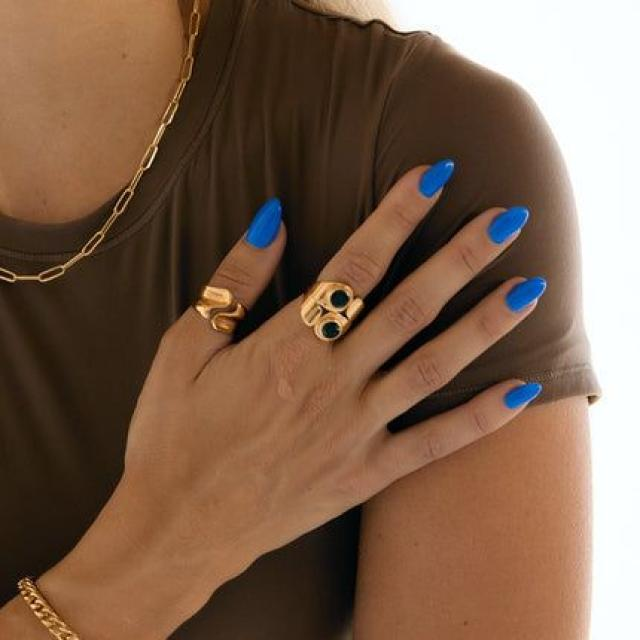Fingernail: (245, 199, 281, 249), (505, 277, 547, 313), (489, 208, 529, 245), (417, 160, 455, 198), (505, 383, 541, 408)
